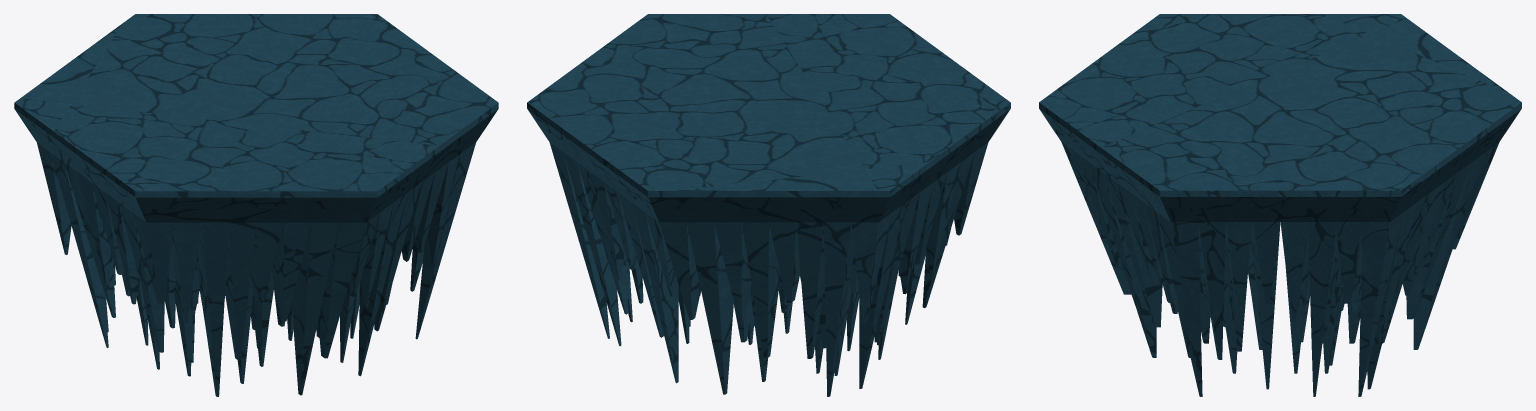
The model's file is Espetinho.fbx.
The picture shows the model from 3 angles, left to right: view 1: azimuth 30°, elevation 25°; view 2: azimuth 150°, elevation 25°; view 3: azimuth 270°, elevation 25°; orthographic projection.
Parts seen in each view (by area): view 1: Circle; view 2: Circle; view 3: Circle.
Part boxes in pixels (x1=…): Circle: x1=14, y1=14, x2=498, y2=396; Circle: x1=527, y1=14, x2=1010, y2=396; Circle: x1=1039, y1=14, x2=1521, y2=396.
Bounding box in the file's own units: 4.15 × 2.58 × 4.8.
1 material, 1 textured.
